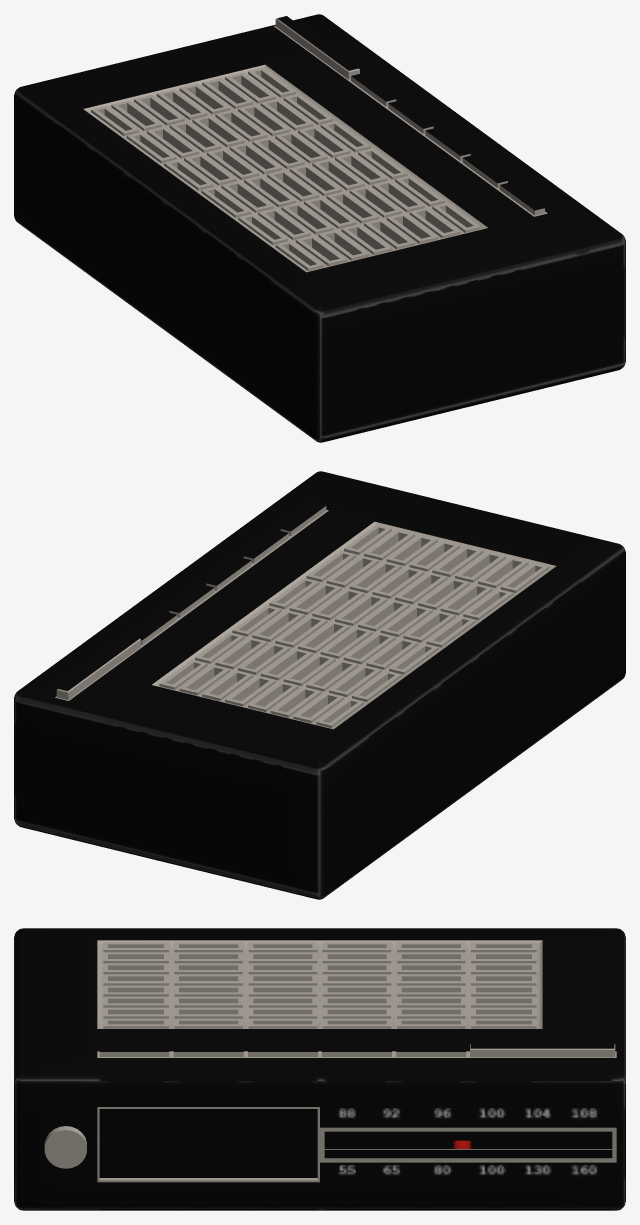
File: Radio.glb
3 views of the same model, one above another, from view 1: azimuth 30°, elevation 25°; view 2: azimuth 150°, elevation 25°; view 3: azimuth 270°, elevation 25° (orthographic).
Visible parts, largest first — view 1: Cube-Mat.1, Cube-Mat (×2); view 2: Cube-Mat.1, Cube-Mat (×2); view 3: Cube-Mat.1, Cube-Mat (×2), Bar, Cylinder.
Boxes of the visible parts, left/top/right/bottom form: Cube-Mat.1: left=14, top=14, right=625, bottom=442; Cube-Mat (×2): left=83, top=18, right=547, bottom=272; Cube-Mat.1: left=14, top=471, right=625, bottom=899; Cube-Mat (×2): left=55, top=506, right=556, bottom=729; Cube-Mat.1: left=14, top=928, right=625, bottom=1210; Cube-Mat (×2): left=97, top=940, right=616, bottom=1182; Bar: left=324, top=1140, right=612, bottom=1148; Cylinder: left=44, top=1126, right=86, bottom=1168.
Size of the model in its own units: 121 by 52.17 by 200.
3 materials, 2 textured.
